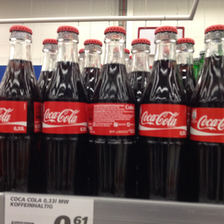soda: (137, 26, 188, 199), (88, 27, 136, 198), (43, 25, 88, 194), (1, 26, 42, 192), (189, 25, 223, 203)
